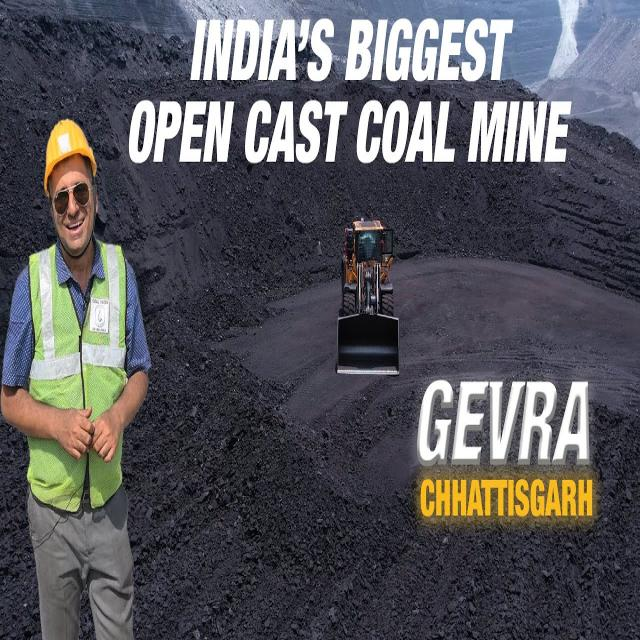buldozerpayloadergrader: (331, 204, 407, 381)
